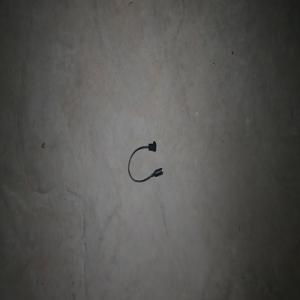Wire: (127, 140, 163, 182)
